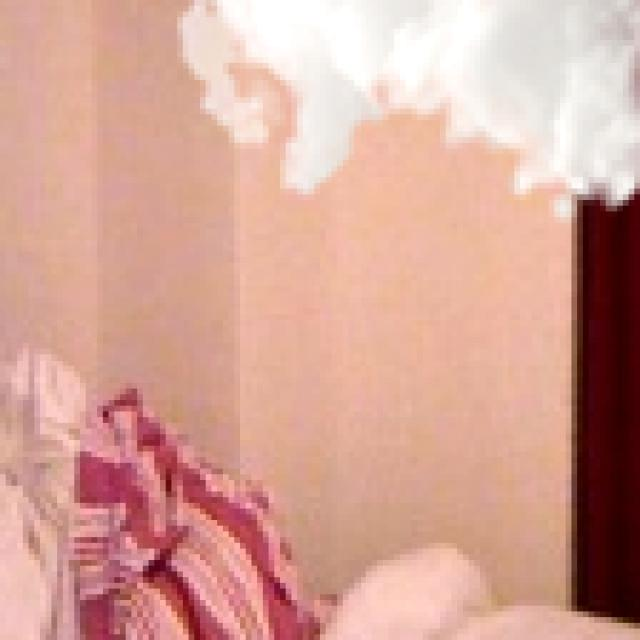smoke: (160, 0, 640, 229)
